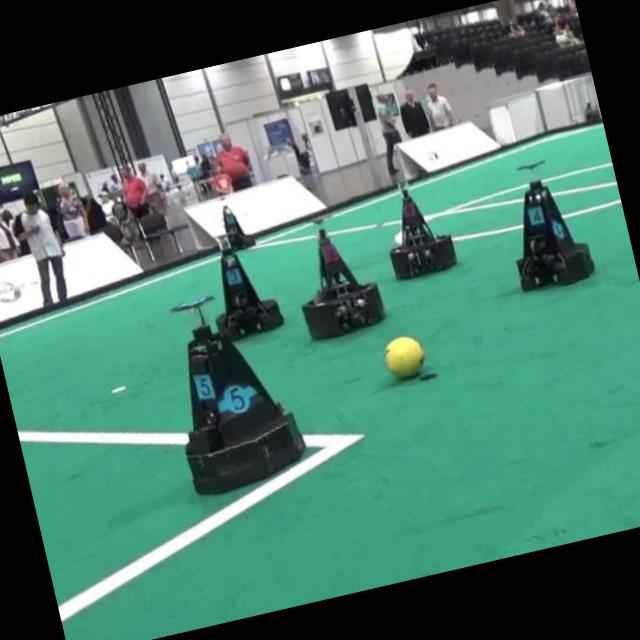ball: (383, 334, 424, 377)
robot: (171, 295, 304, 493), (302, 228, 383, 337), (516, 179, 593, 289), (389, 188, 455, 278), (220, 247, 282, 338), (223, 205, 255, 247)
